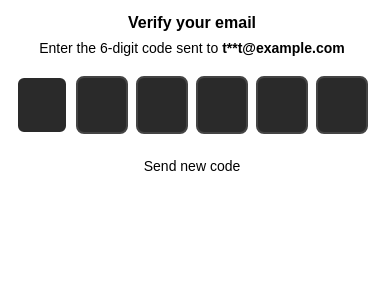
Test: EmailVerification › uses singular "attempt" for 1 remaining
Step 1. Type "0" into the field named "Digit 1" → (42, 105), box [16,76,68,134]
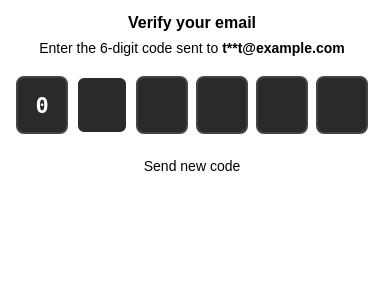
Step 2. Type "0" into the field named "Digit 2" → (102, 105), box [76,76,128,134]
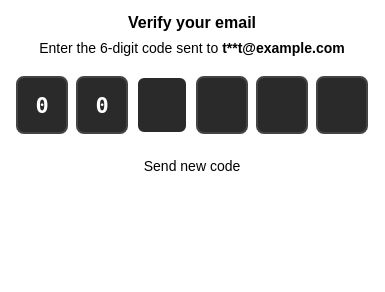
Step 3. Type "0" into the field named "Digit 3" → (162, 105), box [136,76,188,134]
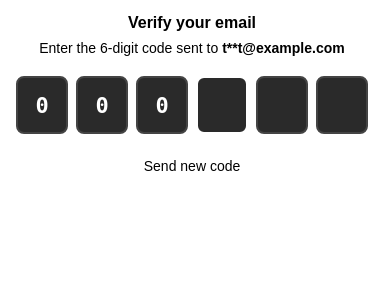
Step 4. Type "0" into the field named "Digit 4" → (222, 105), box [196,76,248,134]
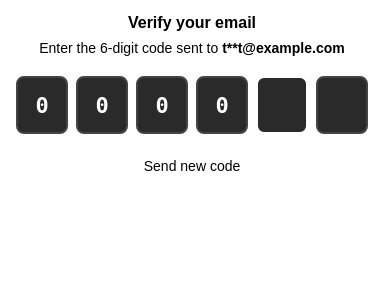
Step 5. Type "0" into the field named "Digit 5" → (282, 105), box [256,76,308,134]
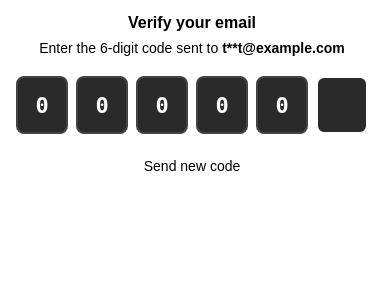
Step 6. Type "0" into the field named "Digit 6" → (342, 105), box [316,76,368,134]
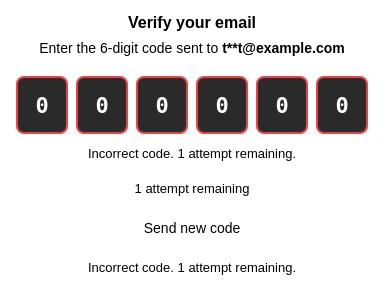
Check: the text "Incorrect code. 1 attempt remaining." is shown 2 times, box [88,146,296,161]; [88,260,296,275]
